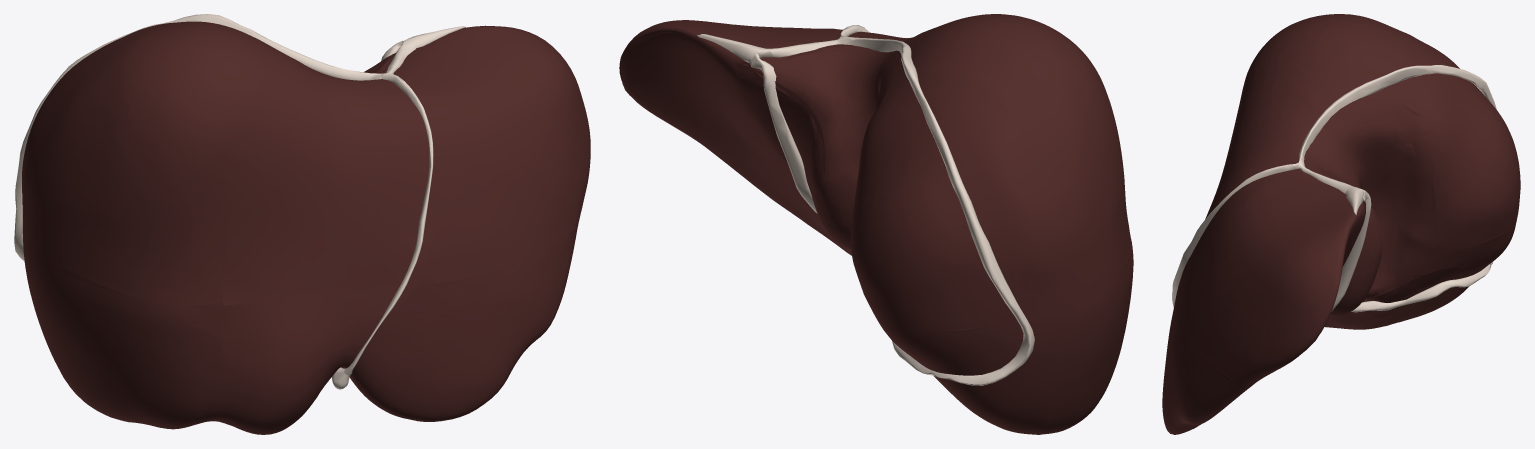
The model's file is liver.glb.
3 views of the same model, side by side, from view 1: azimuth 30°, elevation 25°; view 2: azimuth 150°, elevation 25°; view 3: azimuth 270°, elevation 25° (orthographic). The views are drawn at different scales.
Parts seen in each view (by area): view 1: VH_F_capsule_of_the_liver, VH_F_left_superomedial_segment1, VH_F_right_anterosuperior_segment, VH_F_left_inferomedial_segment, VH_F_left_superomedial_segment, VH_F_right_anteroinferior_segment, VH_F_left_anterolateral_segment, VH_F_coronary_ligament_of_liver, VH_F_falciform_ligament; view 2: VH_F_capsule_of_the_liver, VH_F_bare_area_of_liver, VH_F_left_superomedial_segment, VH_F_diaphragmatic_surface_of_liver, VH_F_coronary_ligament_of_liver, VH_F_caudate_lobe, VH_F_right_posterosuperior_segment, VH_F_ligamentum_venosum, VH_F_gastric_impression_of_liver, VH_F_right_posteroinferior_segment, VH_F_left_anterolateral_segment, VH_F_right_anterosuperior_segment (+3 smaller); view 3: VH_F_capsule_of_the_liver, VH_F_bare_area_of_liver, VH_F_caudate_lobe, VH_F_left_superomedial_segment, VH_F_coronary_ligament_of_liver, VH_F_left_superomedial_segment1, VH_F_right_posterosuperior_segment, VH_F_diaphragmatic_surface_of_liver, VH_F_falciform_ligament, VH_F_ligamentum_venosum, VH_F_left_anterolateral_segment, VH_F_right_posteroinferior_segment (+3 smaller).
Boxes of the visible parts, x1,y1,x2,y2 form: VH_F_capsule_of_the_liver: [22, 21, 590, 434]; VH_F_left_superomedial_segment1: [222, 55, 433, 305]; VH_F_right_anterosuperior_segment: [38, 23, 281, 305]; VH_F_left_inferomedial_segment: [209, 284, 398, 433]; VH_F_left_superomedial_segment: [380, 29, 588, 283]; VH_F_right_anteroinferior_segment: [38, 248, 223, 426]; VH_F_left_anterolateral_segment: [342, 226, 577, 419]; VH_F_coronary_ligament_of_liver: [14, 14, 413, 261]; VH_F_falciform_ligament: [344, 73, 433, 375]; VH_F_capsule_of_the_liver: [619, 14, 1133, 434]; VH_F_bare_area_of_liver: [749, 47, 1023, 375]; VH_F_left_superomedial_segment: [622, 22, 840, 177]; VH_F_diaphragmatic_surface_of_liver: [619, 30, 996, 425]; VH_F_coronary_ligament_of_liver: [767, 36, 1034, 385]; VH_F_caudate_lobe: [779, 47, 899, 250]; VH_F_right_posterosuperior_segment: [851, 61, 1101, 331]; VH_F_ligamentum_venosum: [751, 53, 817, 213]; VH_F_gastric_impression_of_liver: [666, 67, 851, 255]; VH_F_right_posteroinferior_segment: [866, 283, 1101, 434]; VH_F_left_anterolateral_segment: [716, 151, 832, 238]; VH_F_right_anterosuperior_segment: [894, 18, 1132, 282]; VH_F_capsule_of_the_liver: [1162, 14, 1472, 434]; VH_F_bare_area_of_liver: [1306, 74, 1520, 298]; VH_F_caudate_lobe: [1305, 98, 1438, 315]; VH_F_left_superomedial_segment: [1176, 172, 1365, 381]; VH_F_coronary_ligament_of_liver: [1298, 65, 1496, 312]; VH_F_left_superomedial_segment1: [1195, 59, 1323, 247]; VH_F_right_posterosuperior_segment: [1393, 31, 1518, 245]; VH_F_diaphragmatic_surface_of_liver: [1170, 201, 1495, 433]; VH_F_falciform_ligament: [1172, 162, 1298, 307]; VH_F_ligamentum_venosum: [1331, 189, 1371, 311]; VH_F_left_anterolateral_segment: [1163, 298, 1240, 425]; VH_F_right_posteroinferior_segment: [1386, 226, 1513, 325].
Size of the model in its own units: 0.2471 by 0.17 by 0.1663.
